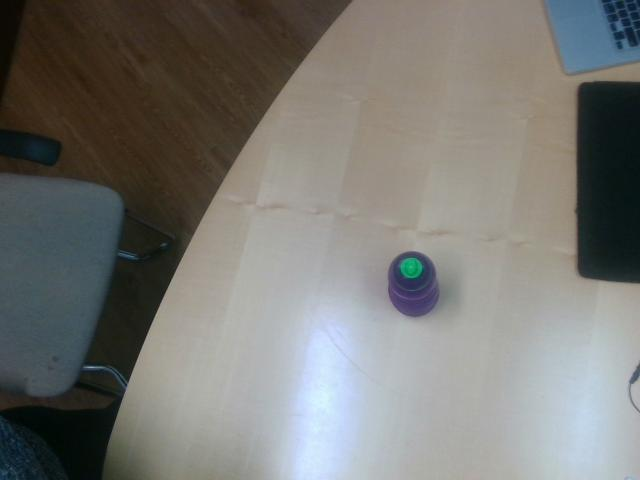bottle: (388, 251, 439, 320)
